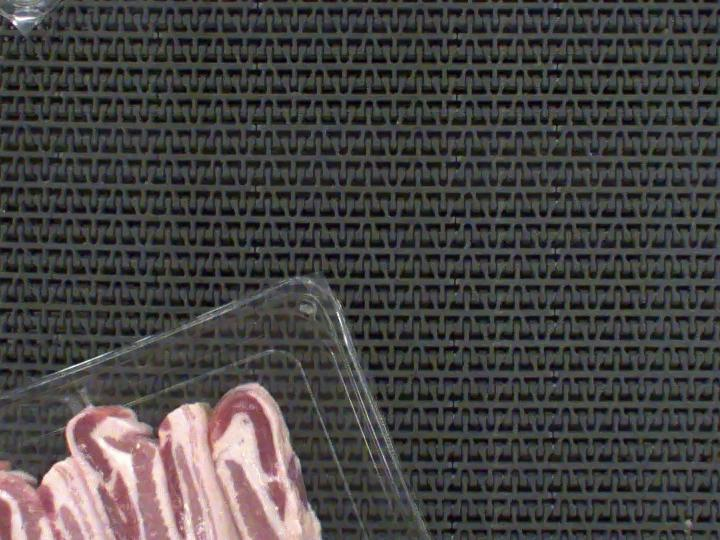packaging-error: (54, 382, 104, 413)
